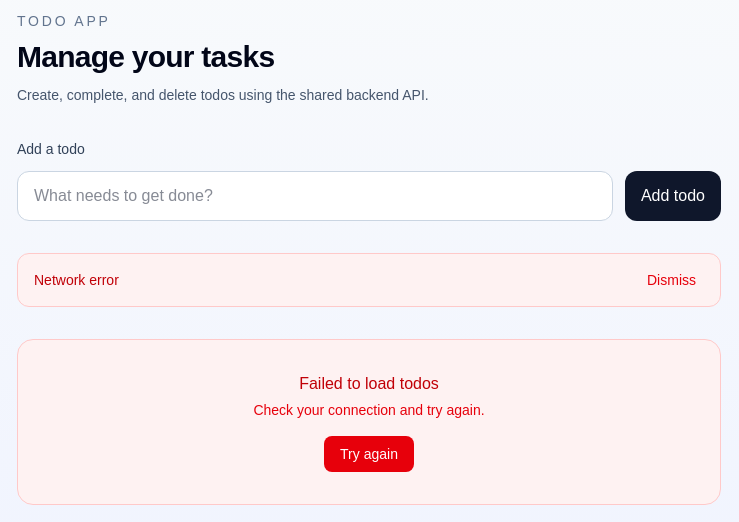
Test: TodoApp › retries list fetch when clicking Try again after failure
The image size is (739, 522).
Check: the text "Failed to load todos" is shown, box [299,375,439,392]
Click the button "Try again" at (369, 454), box [324,436,414,472]
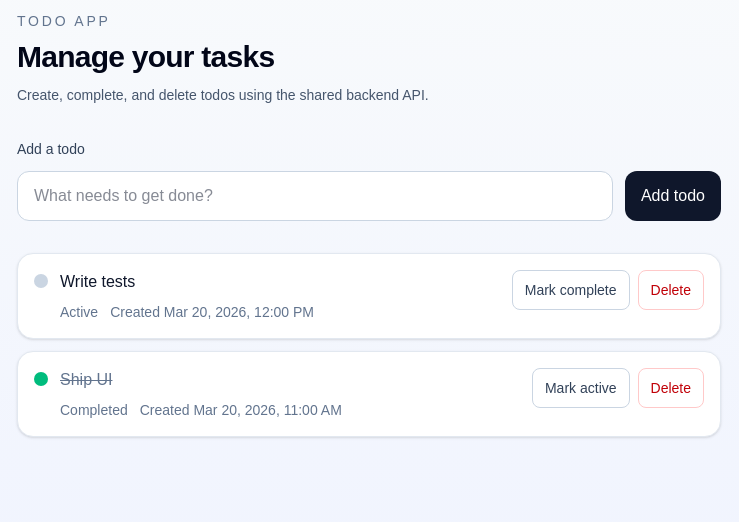
Check: the text "Write tests" is shown, box [60,273,135,290]
Check: the text "Failed to load todos" is gone
